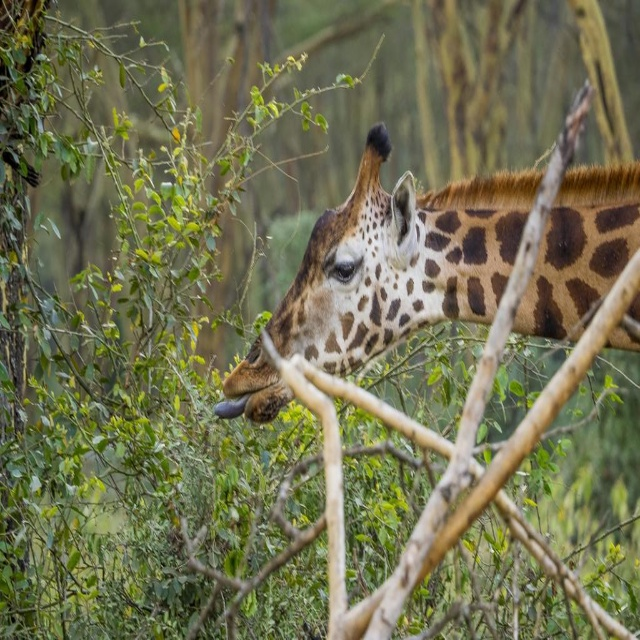Giraffe: (217, 119, 640, 427)
